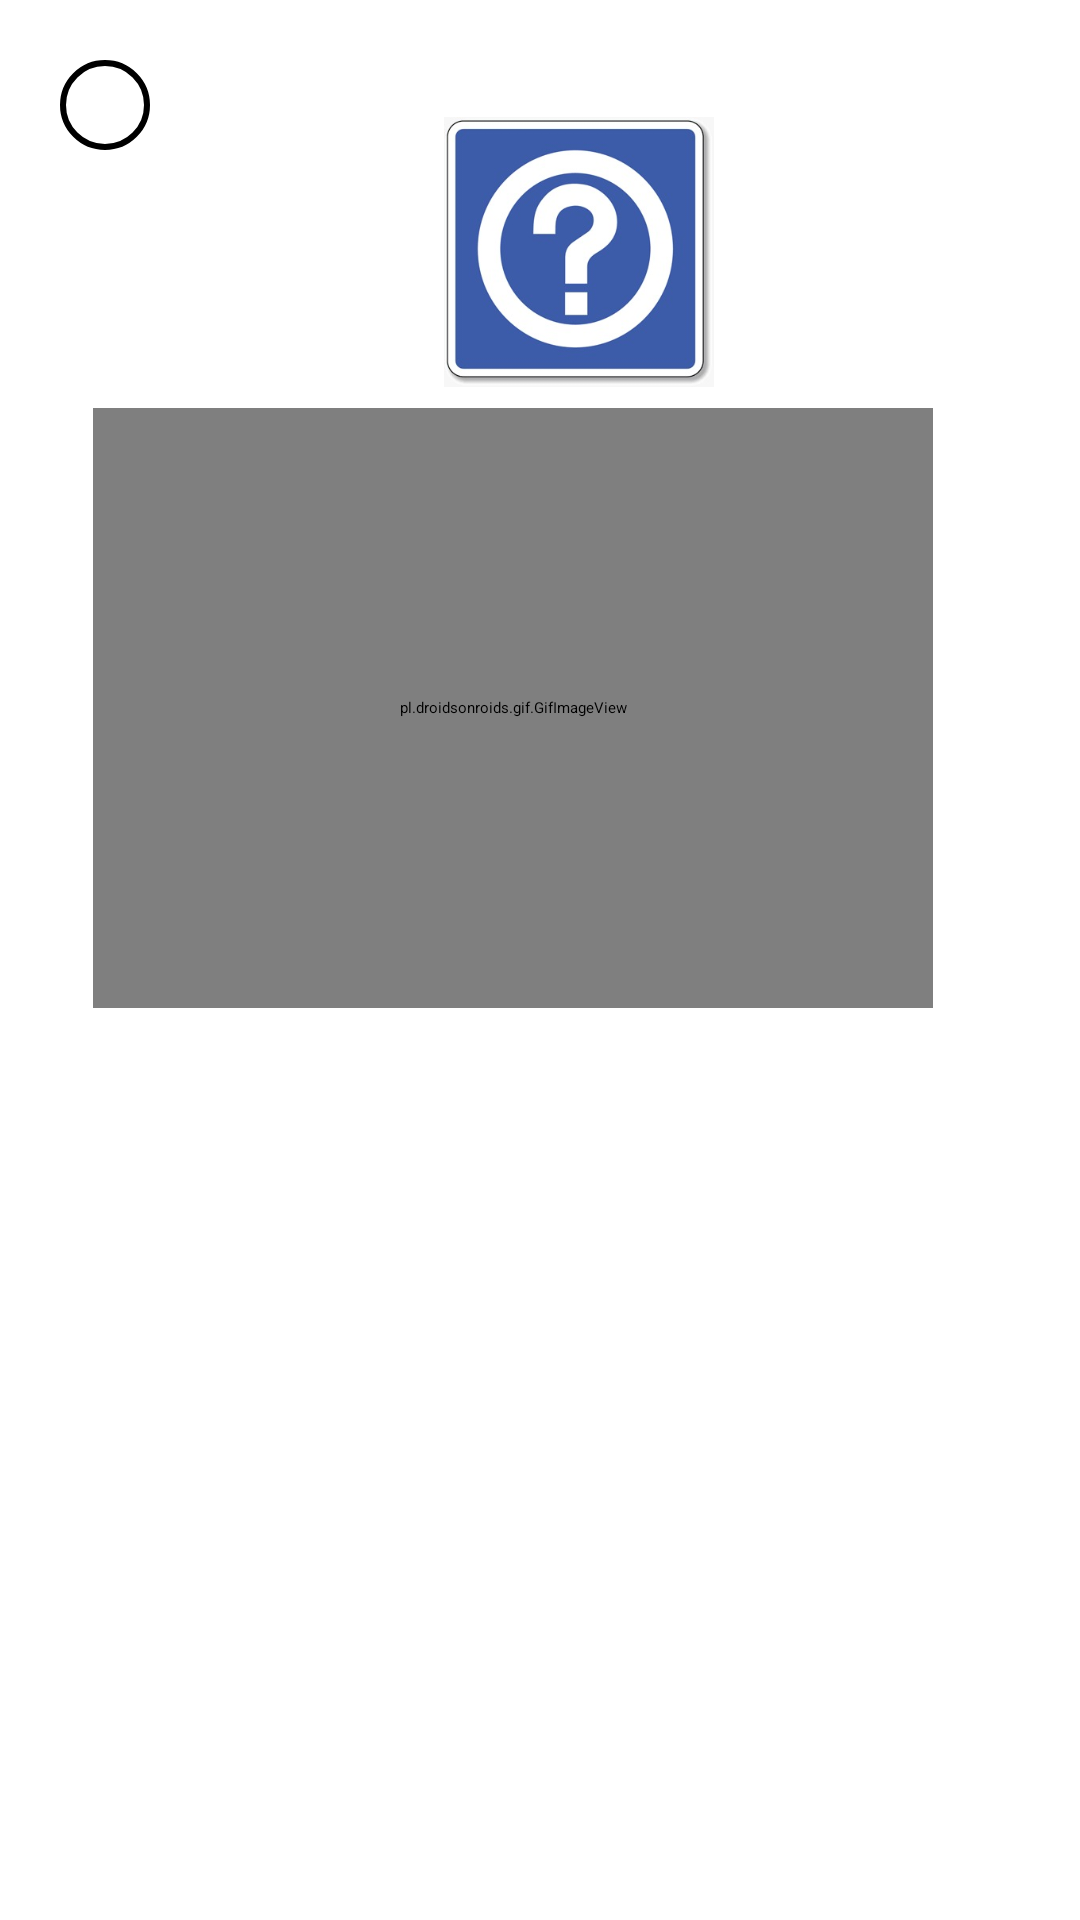

Screen size 1080px×1920px. Icon name, then its center in pixels as (x,y):
signo: (577,251)
